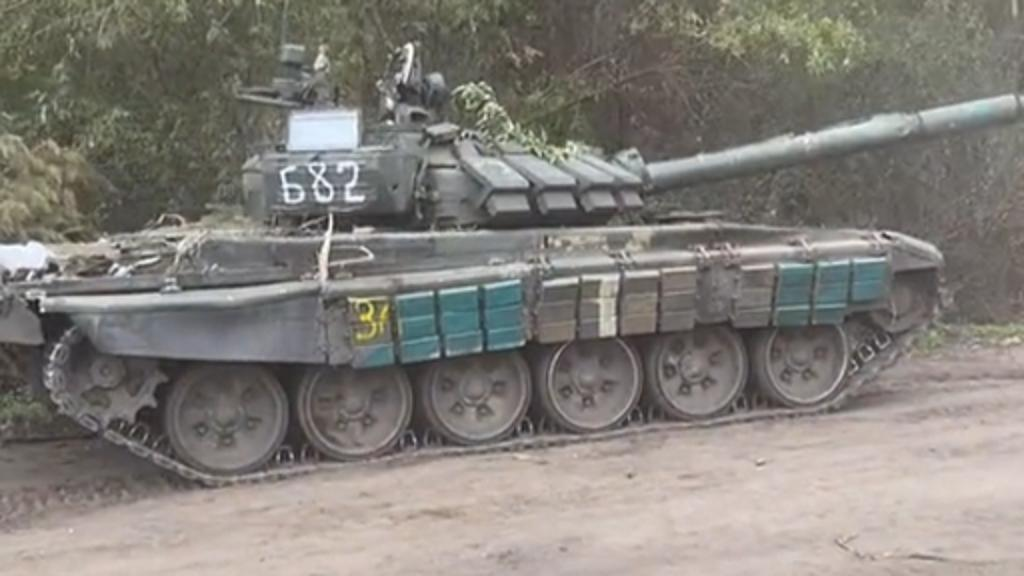TANK: (2, 42, 1012, 486)
